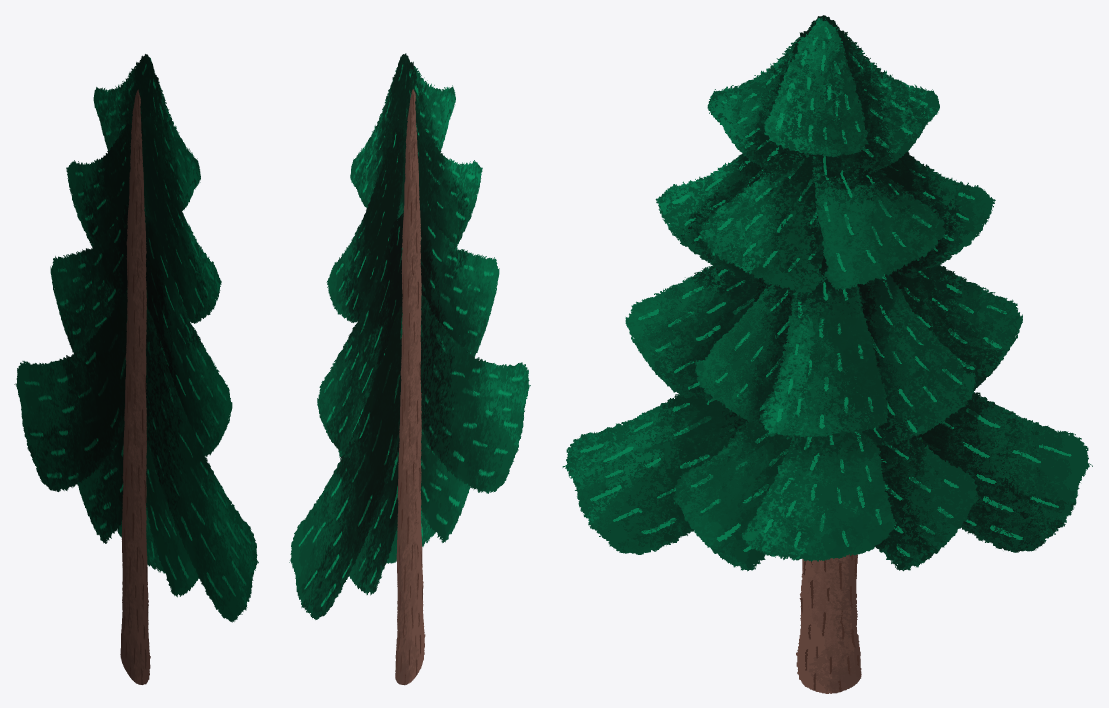
File: tree_6.glb
3 renders of one model, left to right at view 1: azimuth 30°, elevation 25°; view 2: azimuth 150°, elevation 25°; view 3: azimuth 270°, elevation 25°, orthographic. The views are drawn at different scales.
Visible parts, largest first — view 1: tree_6_green_1, tree_6_green_3, Tree 6, tree_6_green_6, tree_6_green_8, tree_6_green_11, tree_6_green_13, tree_6_green_2, tree_6_green_4, tree_6_green_15, tree_6_green_16, tree_6_green_5; view 2: tree_6_green_3, tree_6_green_1, Tree 6, tree_6_green_8, tree_6_green_6, tree_6_green_13, tree_6_green_11, tree_6_green_15, tree_6_green_2, tree_6_green_4, tree_6_green_16, tree_6_green_5; view 3: tree_6_green_1, tree_6_green_3, tree_6_green_5, tree_6_green_10, tree_6_green_14, tree_6_green_9, tree_6_green_12, tree_6_green_6, tree_6_green_2, tree_6_green_17, tree_6_green_4, tree_6_green_8 (+6 smaller).
Part boxes in pixels (x1=…): tree_6_green_1: x1=146, y1=306, x2=258, y2=622; tree_6_green_3: x1=14, y1=291, x2=127, y2=491; Tree 6: x1=120, y1=89, x2=150, y2=684; tree_6_green_6: x1=145, y1=214, x2=232, y2=456; tree_6_green_8: x1=50, y1=201, x2=128, y2=353; tree_6_green_11: x1=142, y1=114, x2=221, y2=323; tree_6_green_13: x1=66, y1=107, x2=143, y2=246; tree_6_green_2: x1=146, y1=441, x2=198, y2=597; tree_6_green_4: x1=77, y1=426, x2=124, y2=543; tree_6_green_15: x1=93, y1=54, x2=153, y2=151; tree_6_green_16: x1=143, y1=54, x2=200, y2=210; tree_6_green_5: x1=117, y1=507, x2=165, y2=573; tree_6_green_3: x1=289, y1=306, x2=402, y2=619; tree_6_green_1: x1=420, y1=294, x2=530, y2=493; Tree 6: x1=395, y1=89, x2=425, y2=685; tree_6_green_8: x1=317, y1=213, x2=403, y2=453; tree_6_green_6: x1=420, y1=202, x2=499, y2=356; tree_6_green_13: x1=326, y1=117, x2=404, y2=322; tree_6_green_11: x1=403, y1=107, x2=482, y2=247; tree_6_green_15: x1=350, y1=53, x2=410, y2=207; tree_6_green_2: x1=420, y1=429, x2=469, y2=542; tree_6_green_4: x1=349, y1=438, x2=399, y2=595; tree_6_green_16: x1=397, y1=54, x2=455, y2=150; tree_6_green_5: x1=386, y1=507, x2=435, y2=563; tree_6_green_1: x1=562, y1=394, x2=748, y2=554; tree_6_green_3: x1=917, y1=392, x2=1092, y2=552; tree_6_green_5: x1=741, y1=431, x2=896, y2=561; tree_6_green_10: x1=759, y1=248, x2=887, y2=437; tree_6_green_14: x1=811, y1=154, x2=945, y2=290; tree_6_green_9: x1=857, y1=274, x2=976, y2=446; tree_6_green_12: x1=699, y1=154, x2=824, y2=294; tree_6_green_6: x1=625, y1=265, x2=766, y2=400; tree_6_green_2: x1=673, y1=420, x2=794, y2=571; tree_6_green_17: x1=764, y1=18, x2=868, y2=157; tree_6_green_4: x1=874, y1=435, x2=978, y2=571; tree_6_green_8: x1=889, y1=265, x2=1022, y2=390.
Bounding box in the file's own units: 0.017 × 0.9814 × 0.6935.
18 materials, 18 textured.
